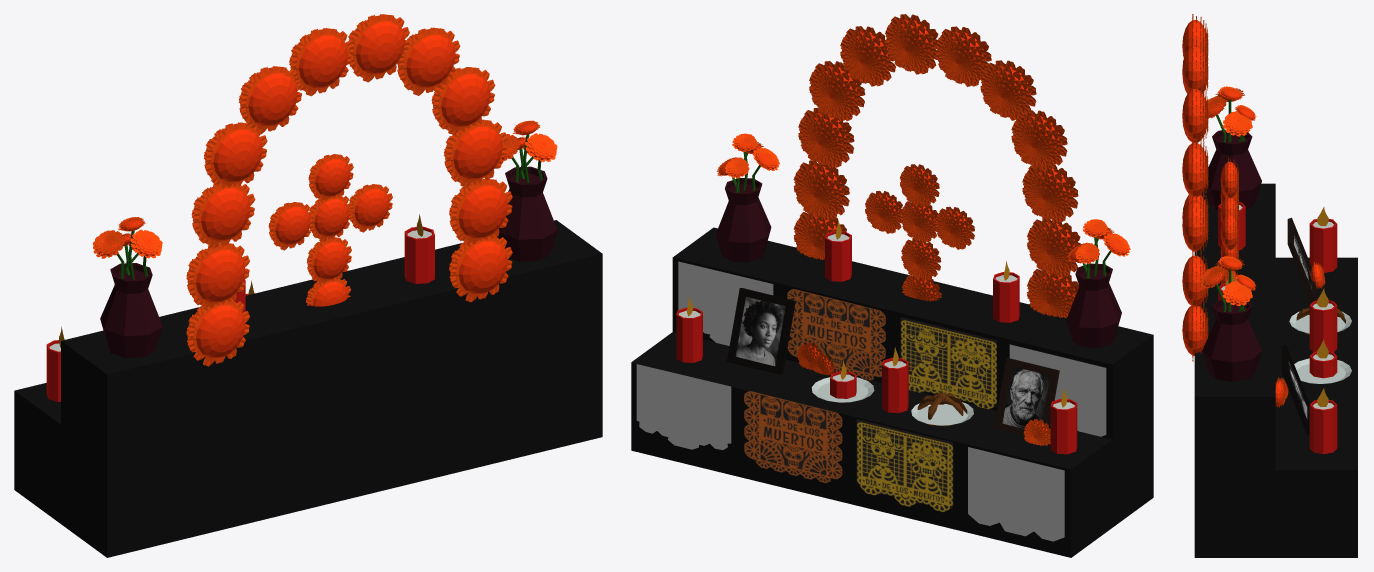
Rendered from altar1.obj.
3 views of the same model, side by side, from view 1: azimuth 30°, elevation 25°; view 2: azimuth 150°, elevation 25°; view 3: azimuth 270°, elevation 25° (orthographic). The views are drawn at different scales.
Parts seen in each view (by area): view 1: Cubo, Plano.283, Cilindro.043, Cilindro.044, Plano.275, Plano.276, Plano.274, Plano.273, Plano.266, Plano.270, Plano.272, Plano.268 (+6 smaller); view 2: Cubo, Plano.308, Plano.283, Plano.303, Plano.309, Plano.437, Plano.307, Plano.434, Cilindro.043, Cilindro.044, Plano.435, Plano.436 (+24 smaller); view 3: Cubo, Cilindro.044, Cilindro.043, Plano.283, Cilindro.046, Cilindro.047, Cilindro.048, Plano.268, Plano.269, Plano.267, Plano.270, Plano.277 (+12 smaller).
Part boxes in pixels (bbox=[...]): Cubo: bbox=[14, 220, 602, 557]; Plano.283: bbox=[268, 154, 392, 306]; Cilindro.043: bbox=[93, 217, 162, 358]; Cilindro.044: bbox=[498, 120, 557, 261]; Plano.275: bbox=[239, 66, 301, 134]; Plano.276: bbox=[289, 28, 352, 96]; Plano.274: bbox=[204, 122, 267, 188]; Plano.273: bbox=[191, 182, 255, 248]; Plano.266: bbox=[449, 178, 512, 245]; Plano.270: bbox=[348, 14, 409, 82]; Plano.272: bbox=[186, 243, 249, 309]; Plano.268: bbox=[431, 67, 495, 134]; Cubo: bbox=[631, 227, 1153, 557]; Plano.308: bbox=[968, 447, 1064, 541]; Plano.283: bbox=[865, 164, 974, 301]; Plano.303: bbox=[744, 390, 842, 483]; Plano.309: bbox=[856, 419, 953, 512]; Plano.437: bbox=[900, 317, 996, 409]; Plano.307: bbox=[636, 364, 731, 450]; Plano.434: bbox=[787, 288, 885, 380]; Cilindro.043: bbox=[1066, 219, 1130, 347]; Cilindro.044: bbox=[716, 133, 779, 262]; Plano.435: bbox=[678, 261, 773, 345]; Plano.436: bbox=[1009, 344, 1106, 436]; Cubo: bbox=[1194, 183, 1357, 557]; Cilindro.044: bbox=[1200, 256, 1261, 381]; Cilindro.043: bbox=[1205, 86, 1261, 209]; Plano.283: bbox=[1220, 157, 1238, 284]; Cilindro.046: bbox=[1309, 388, 1337, 454]; Cilindro.047: bbox=[1309, 206, 1337, 272]; Cilindro.048: bbox=[1309, 288, 1337, 352]; Plano.268: bbox=[1182, 140, 1208, 202]; Plano.269: bbox=[1182, 83, 1208, 145]; Plano.267: bbox=[1182, 197, 1208, 256]; Plano.270: bbox=[1182, 38, 1208, 94]; Plano.277: bbox=[1182, 306, 1208, 361].
Size of the model in its own units: 0.3675 by 0.338 by 0.1293.
